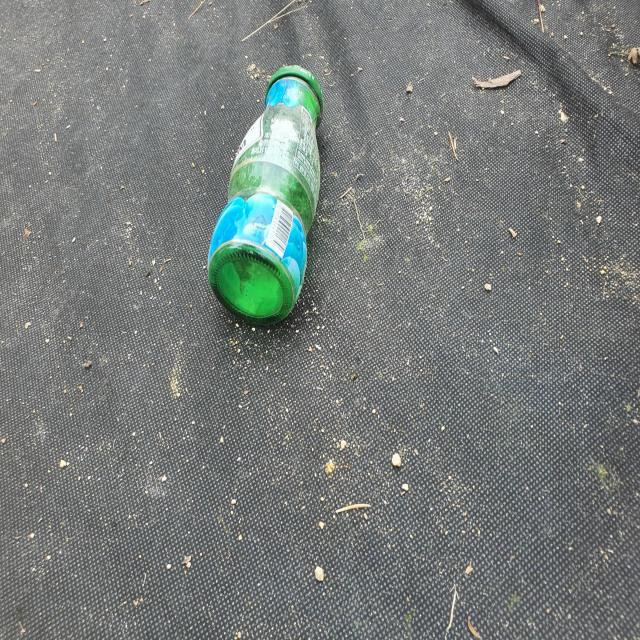glass: (208, 65, 323, 323)
